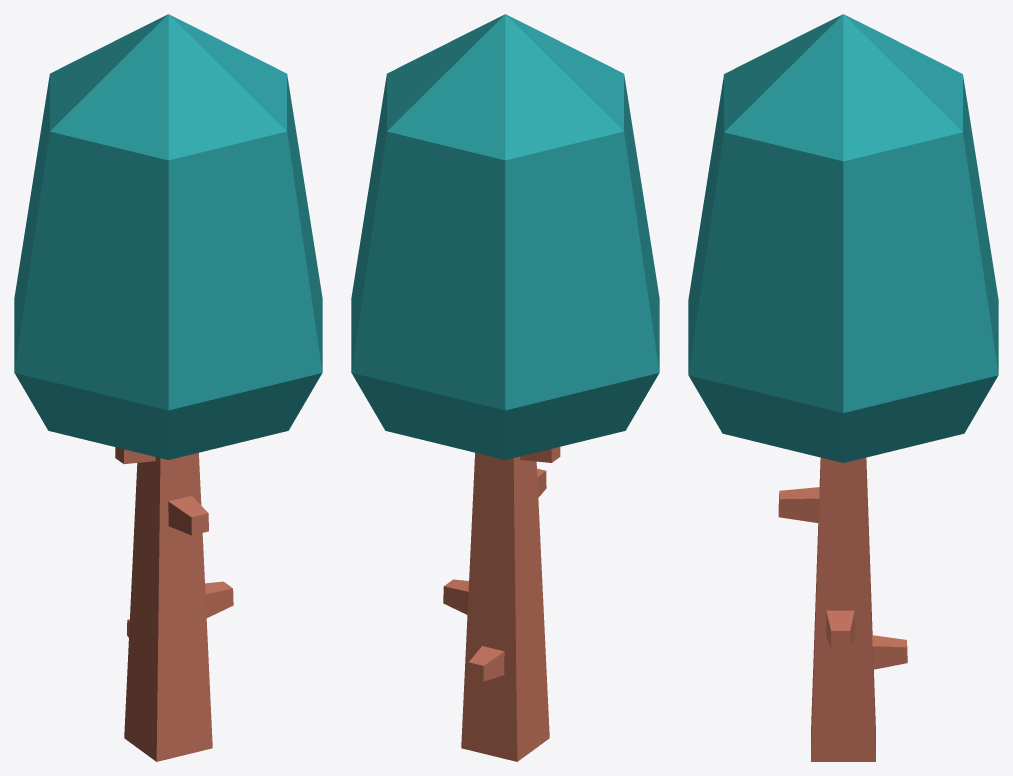
File: tree_default_dark.dae
The picture shows the model from 3 angles, left to right: view 1: azimuth 30°, elevation 25°; view 2: azimuth 150°, elevation 25°; view 3: azimuth 270°, elevation 25°; orthographic projection.
Parts seen in each view (by area): view 1: tree_default_dark; view 2: tree_default_dark; view 3: tree_default_dark.
Part boxes in pixels (x1=…): tree_default_dark: x1=14, y1=14, x2=322, y2=761; tree_default_dark: x1=351, y1=14, x2=659, y2=761; tree_default_dark: x1=688, y1=14, x2=998, y2=761.
Size of the model in its own units: 0.755 by 1.71 by 0.6539.
